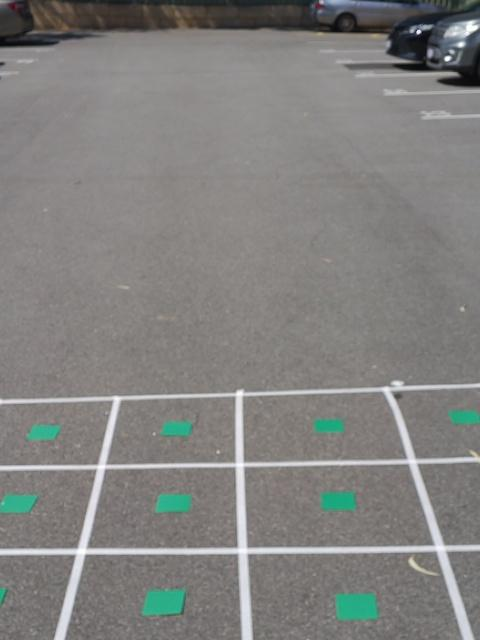weed: (140, 589, 187, 616), (337, 591, 377, 620), (0, 490, 39, 515), (318, 489, 357, 512), (154, 493, 193, 513), (28, 422, 62, 440), (159, 420, 193, 436), (313, 417, 345, 434), (446, 408, 480, 424), (0, 587, 7, 604)
